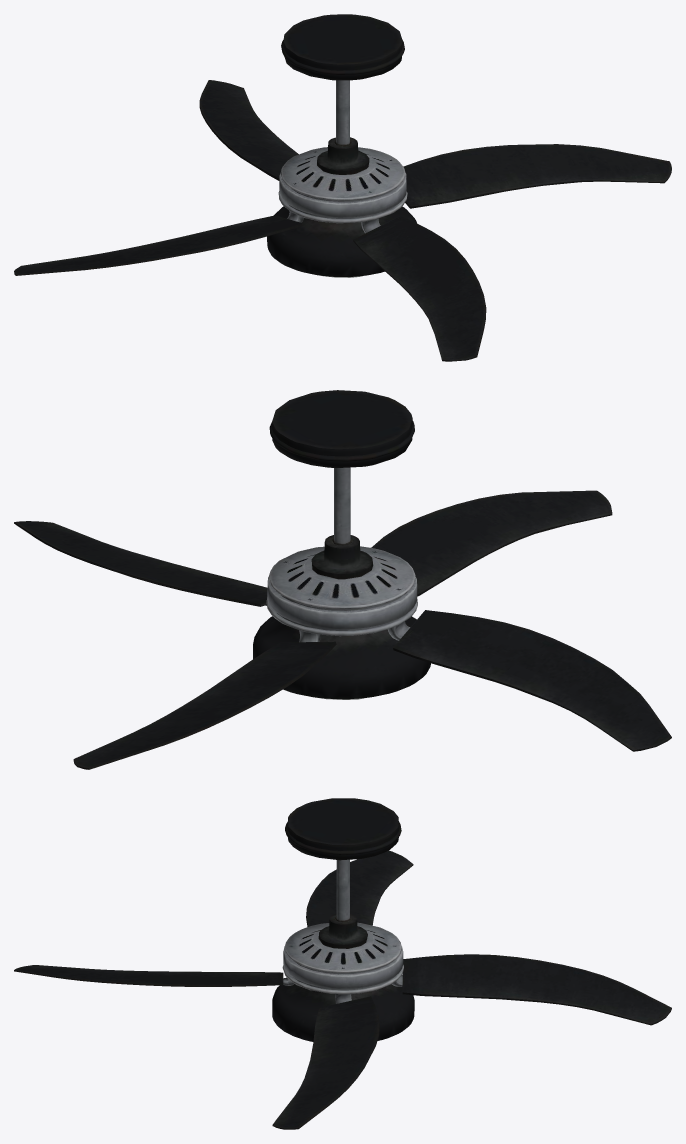
The model's file is ceiling_fan_1k.gltf.
3 renders of one model, top to bottom at view 1: azimuth 30°, elevation 25°; view 2: azimuth 150°, elevation 25°; view 3: azimuth 270°, elevation 25°, orthographic. The views are drawn at different scales.
Parts seen in each view (by area): view 1: ceiling_fan_blades, ceiling_fan; view 2: ceiling_fan_blades, ceiling_fan; view 3: ceiling_fan_blades, ceiling_fan.
Part boxes in pixels (box(x1,y1,x2,y2)): ceiling_fan_blades: box(14, 80, 671, 361); ceiling_fan: box(267, 14, 416, 277); ceiling_fan_blades: box(14, 490, 671, 769); ceiling_fan: box(253, 390, 430, 699); ceiling_fan_blades: box(14, 850, 671, 1129); ceiling_fan: box(272, 798, 414, 1041).
Size of the model in its own units: 1.46 by 0.5163 by 1.46.
1 material, 1 textured.
